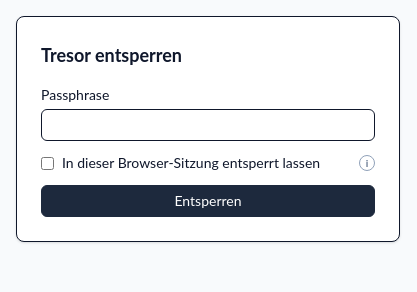
Test: PassphraseGate › names a wrong passphrase as such
Type "wrong-passphrase" into the password field labelled "Passphrase".
click(208, 125); type("wrong-passphrase")  # box 41,109 -> 375,141
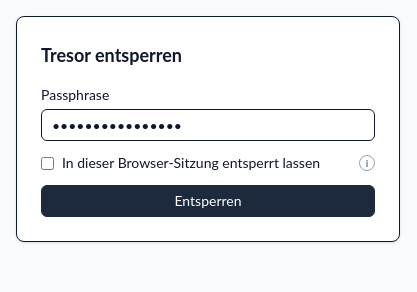
Submit the form, box 41,85 -> 375,217
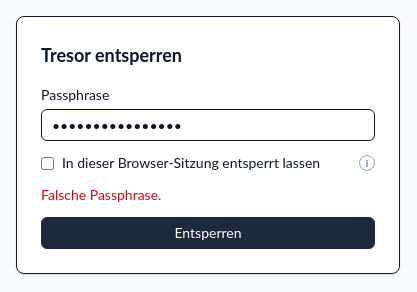
Now the text "Falsche Passphrase." is shown, box 41,186 -> 161,203
